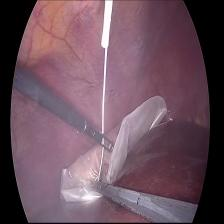Grasper: (84, 110, 114, 160), (90, 172, 106, 199)
Specimen Bag: (56, 80, 170, 212)
